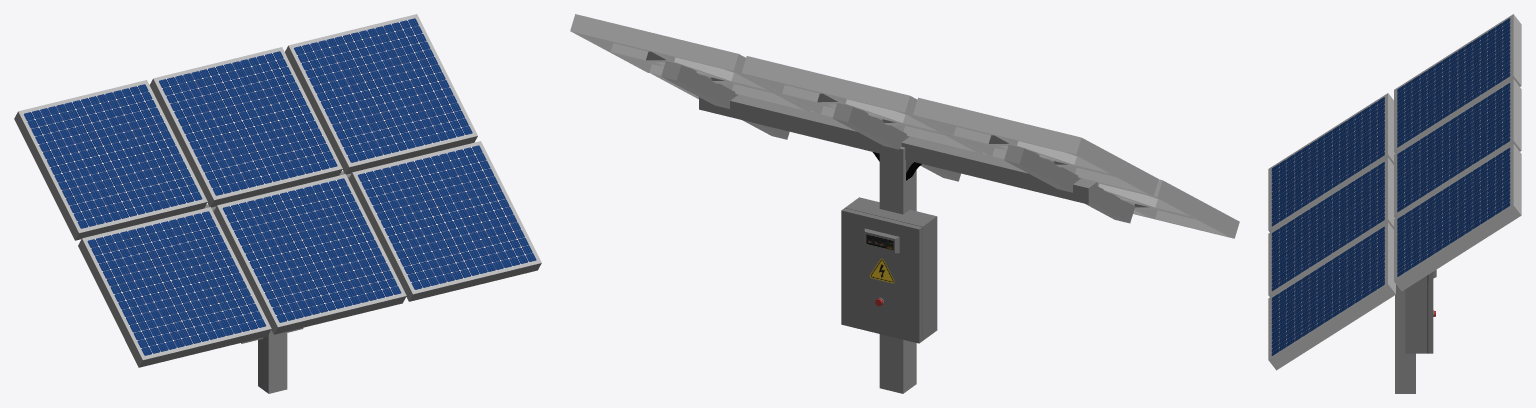
The model's file is Paniel_Solar_TEXTURIZADO_Mars_Station_Vitor_Hugo.fbx.
3 views of the same model, side by side, from view 1: azimuth 30°, elevation 25°; view 2: azimuth 150°, elevation 25°; view 3: azimuth 270°, elevation 25° (orthographic). The views are drawn at different scales.
Visible parts, largest first — view 1: pCube69, pCube67, pCube73, pCube70, pCube74, pCube72, pCube71; view 2: pCube75, pCube66, pCube73, pCube72, pCube74, pCube71, pCube69, pCube68, pCube64, pCube65; view 3: pCube74, pCube67, pCube72, pCube73, pCube69, pCube70, pCube75, pCube71.
Part boxes in pixels (left/top/right/bottom): pCube69: left=78, top=207, right=271, bottom=367; pCube67: left=348, top=141, right=541, bottom=301; pCube73: left=14, top=80, right=207, bottom=240; pCube70: left=213, top=174, right=406, bottom=334; pCube74: left=285, top=14, right=477, bottom=174; pCube72: left=149, top=47, right=342, bottom=207; pCube71: left=258, top=330, right=287, bottom=393; pCube75: left=841, top=197, right=937, bottom=343; pCube66: left=699, top=95, right=1097, bottom=204; pCube73: left=913, top=97, right=1158, bottom=195; pCube72: left=741, top=56, right=982, bottom=154; pCube74: left=570, top=14, right=811, bottom=112; pCube71: left=879, top=144, right=916, bottom=393; pCube69: left=1097, top=179, right=1239, bottom=238; pCube68: left=1004, top=144, right=1135, bottom=223; pCube64: left=661, top=61, right=789, bottom=139; pCube65: left=832, top=103, right=960, bottom=181; pCube74: left=1394, top=143, right=1521, bottom=291; pCube67: left=1268, top=222, right=1395, bottom=370; pCube72: left=1394, top=79, right=1521, bottom=218; pCube73: left=1394, top=14, right=1521, bottom=153; pCube69: left=1268, top=93, right=1395, bottom=232; pCube70: left=1268, top=158, right=1394, bottom=296; pCube75: left=1405, top=269, right=1436, bottom=353; pCube71: left=1395, top=284, right=1415, bottom=393.
Size of the model in its own units: 3.25 by 2.22 by 1.82.
5 materials, 3 textured.
